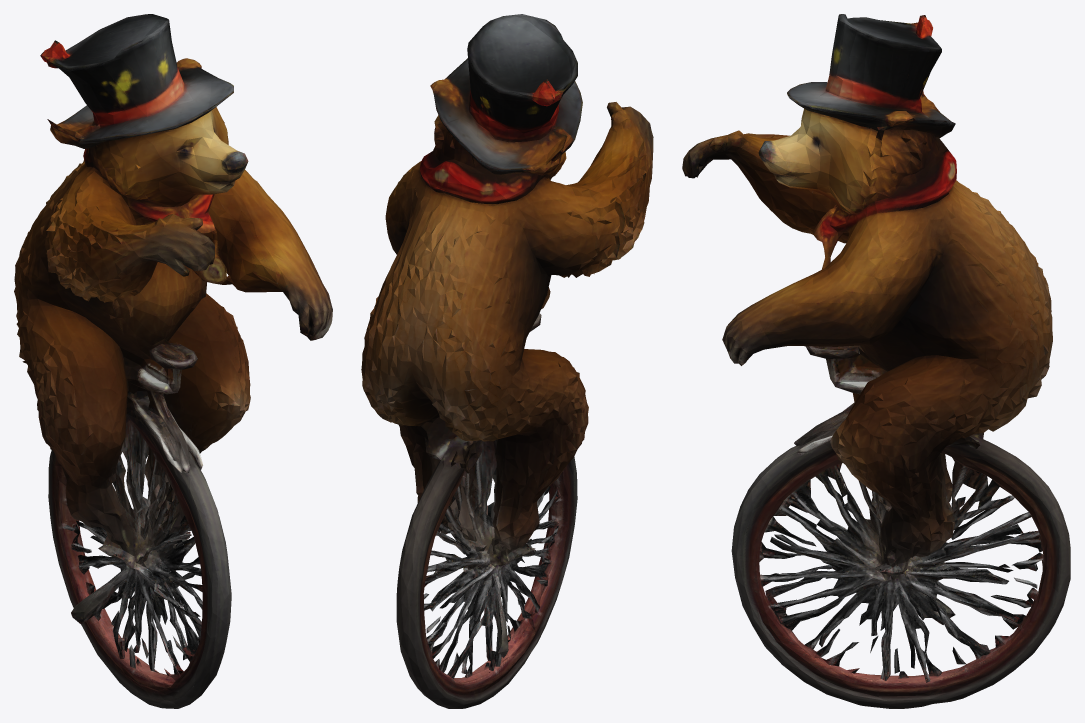
The model's file is bear-sample.fbx.
3 views of the same model, side by side, from view 1: azimuth 30°, elevation 25°; view 2: azimuth 150°, elevation 25°; view 3: azimuth 270°, elevation 25° (orthographic). The views are drawn at different scales.
Parts seen in each view (by area): view 1: geometry_0; view 2: geometry_0; view 3: geometry_0.
Part boxes in pixels (bbox=[...]): geometry_0: bbox=[14, 14, 332, 708]; geometry_0: bbox=[361, 14, 653, 708]; geometry_0: bbox=[682, 14, 1070, 708].
Bounding box in the file's own units: 0.3595 × 0.9901 × 0.511.
Materials: 1 (1 with a texture image).
